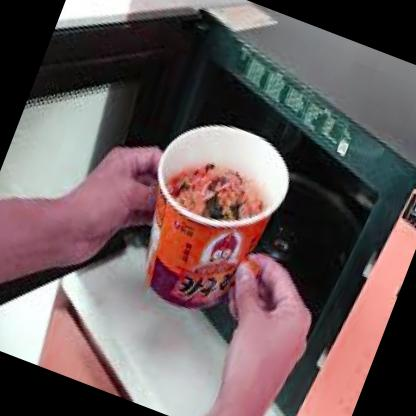Ramen: (122, 106, 313, 326)
